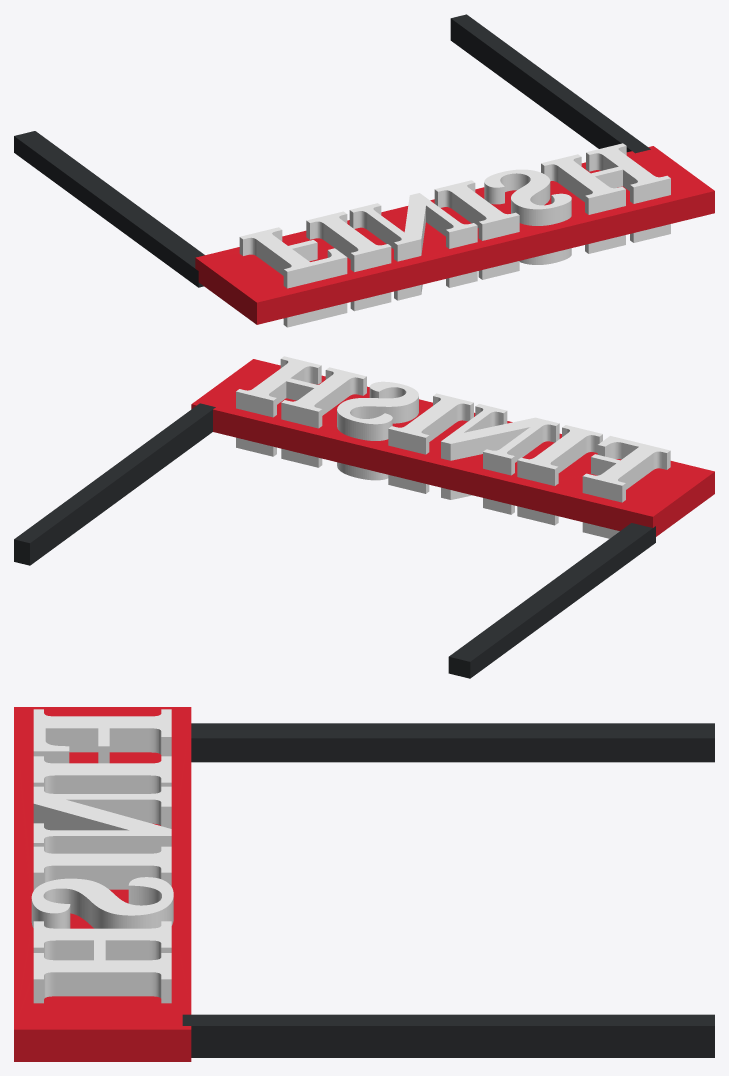
The model's file is tinker.obj.
The picture shows the model from 3 angles, top to bottom: view 1: azimuth 30°, elevation 25°; view 2: azimuth 150°, elevation 25°; view 3: azimuth 270°, elevation 25°; orthographic projection. The views are drawn at different scales.
Visible parts, largest first — view 1: group_0_16448250, group_0_15277357, group_0_2829873; view 2: group_0_16448250, group_0_15277357, group_0_2829873; view 3: group_0_2829873, group_0_16448250, group_0_15277357.
Part boxes in pixels (x1=…): group_0_16448250: x1=239, y1=143, x2=670, y2=327; group_0_15277357: x1=195, y1=146, x2=714, y2=324; group_0_2829873: x1=14, y1=14, x2=650, y2=287; group_0_16448250: x1=236, y1=356, x2=670, y2=538; group_0_15277357: x1=191, y1=359, x2=714, y2=536; group_0_2829873: x1=14, y1=403, x2=655, y2=678; group_0_2829873: x1=182, y1=723, x2=714, y2=1057; group_0_16448250: x1=31, y1=709, x2=173, y2=1003; group_0_15277357: x1=14, y1=707, x2=191, y2=1061.
Bounding box in the file's own units: 86 × 10 × 79.
